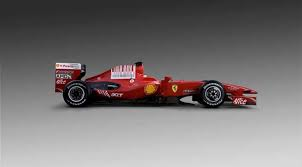f1_car: (49, 54, 260, 115)
